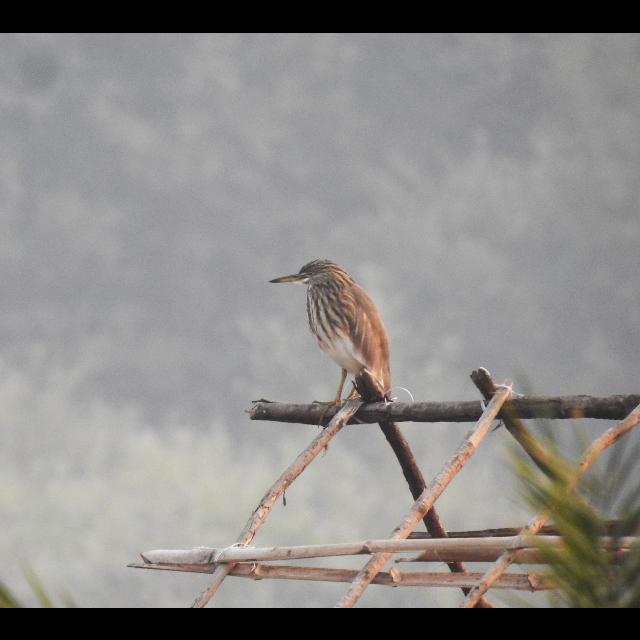heron: (258, 261, 399, 419)
